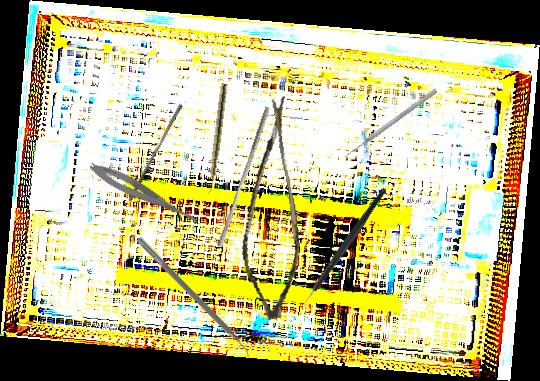Chopper: (269, 186, 420, 318)
Handpiece: (206, 82, 228, 196)
Micro Scissor: (216, 95, 324, 323), (86, 158, 207, 230)
Pusher: (216, 104, 271, 249), (342, 87, 439, 160), (127, 101, 184, 205)
Spatula Surgical: (130, 236, 257, 362)
